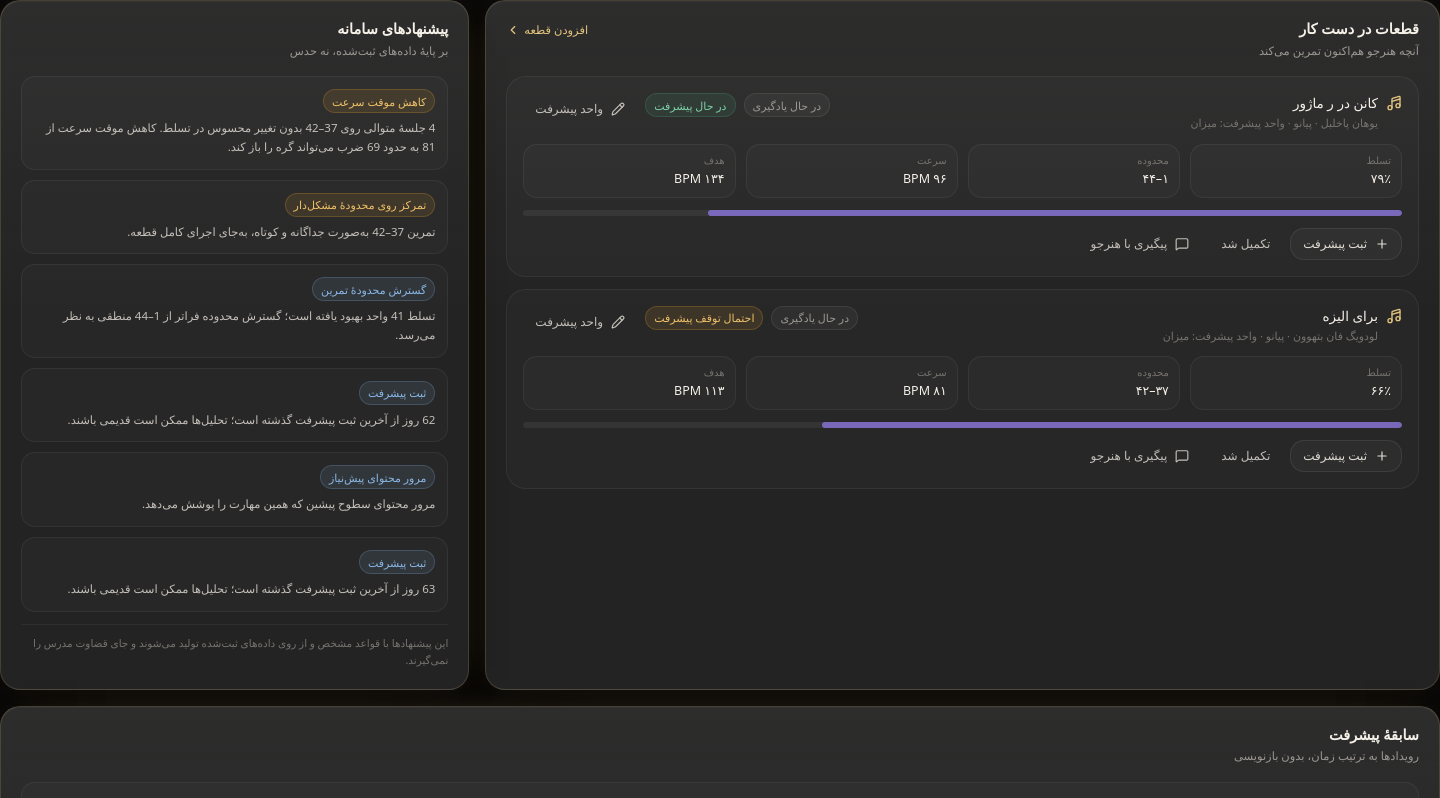
Test: teacher view › rejects an out-of-range mastery before writing anything
The width and height of the screenshot is (1440, 798).
Click the button "ثبت پیشرفت" below "یوهان پاخلبل" at (1346, 244), box [1290,228,1402,260]
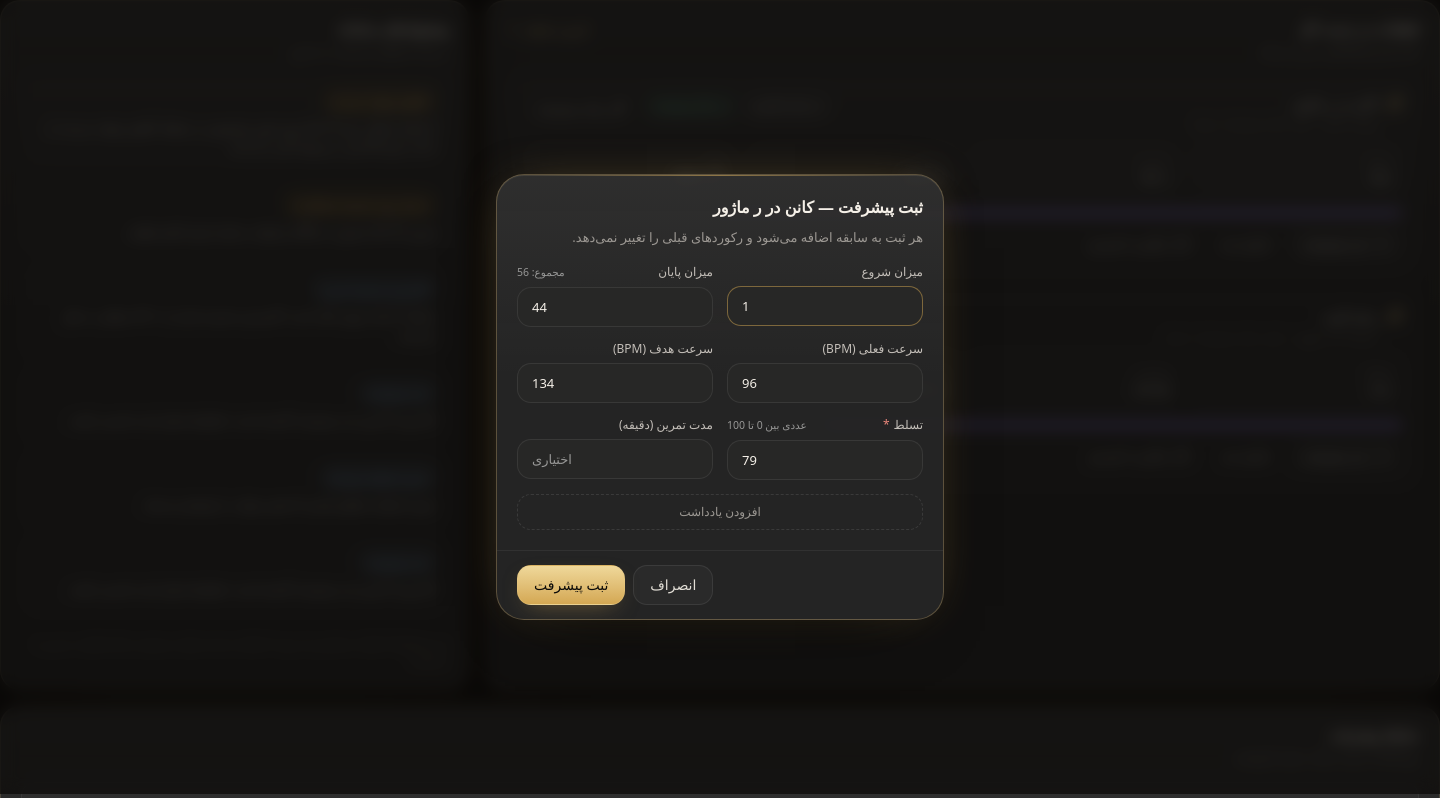
Replace the text in the field labelled "تسلط* عددی بین 0 تا 100" with "150" at (825, 460), box [727,440,923,480]
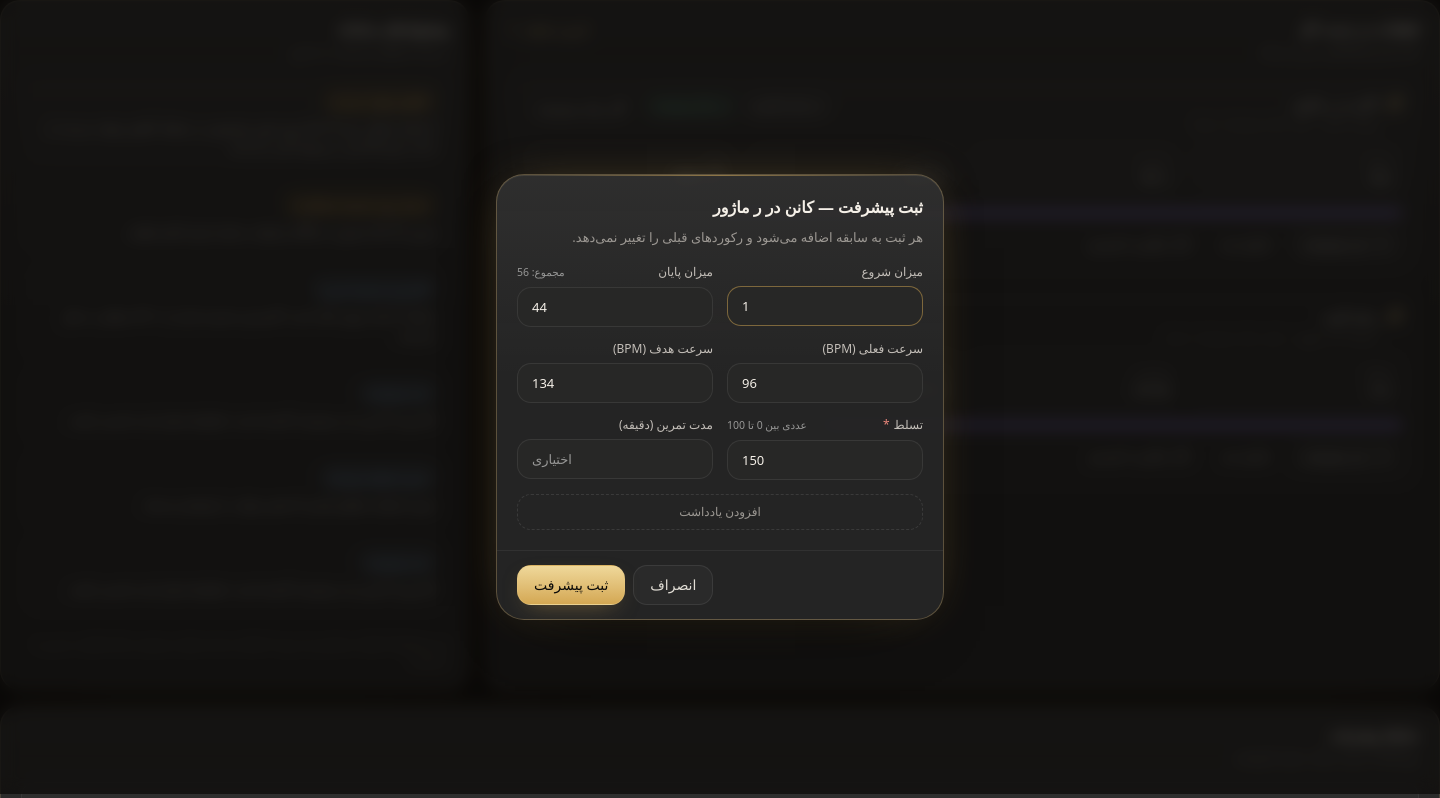
Click the button "ثبت پیشرفت" at (571, 585), box [517,565,625,605]
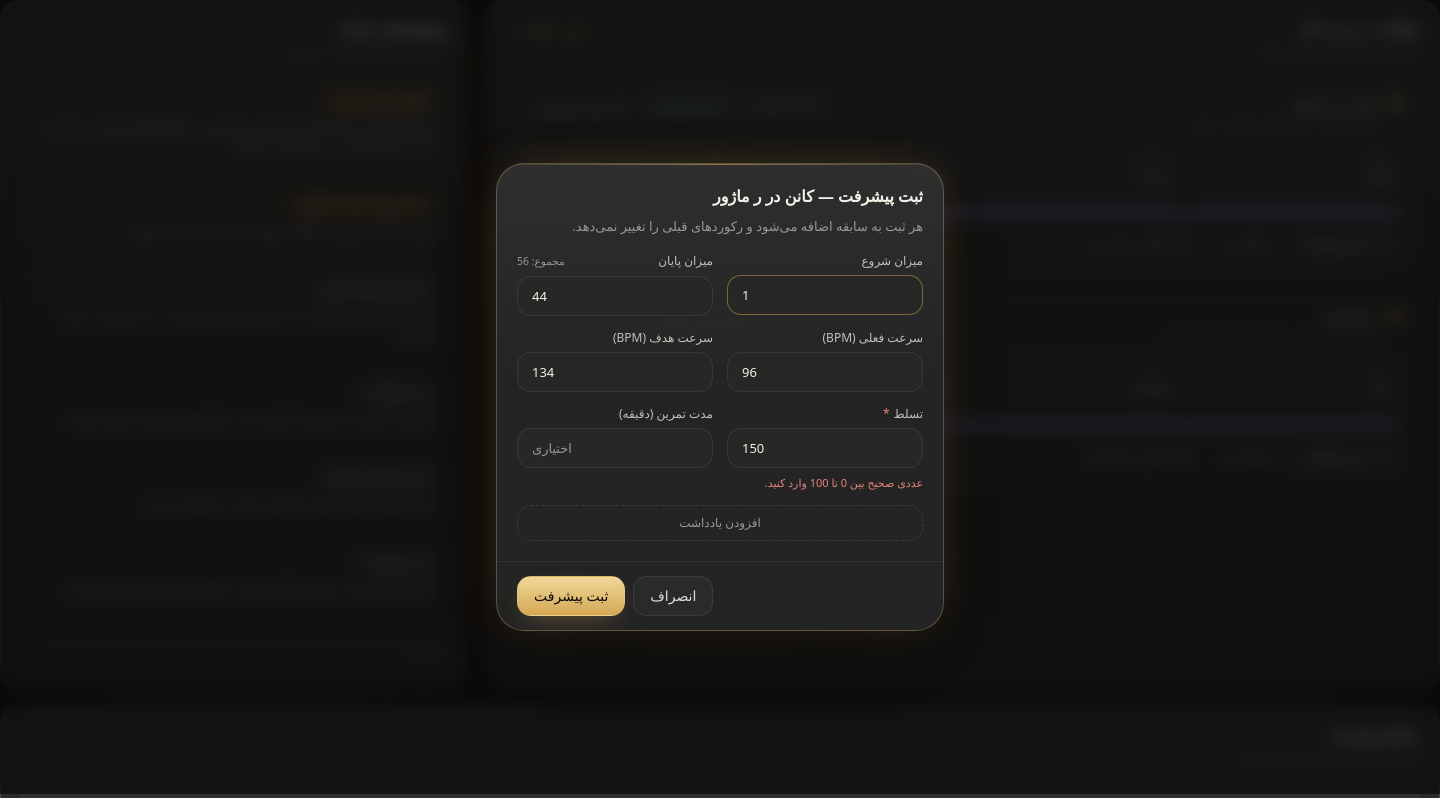
Check: the text "عددی صحیح بین 0 تا 100 وارد کنید." is shown, box [765,474,923,490]
